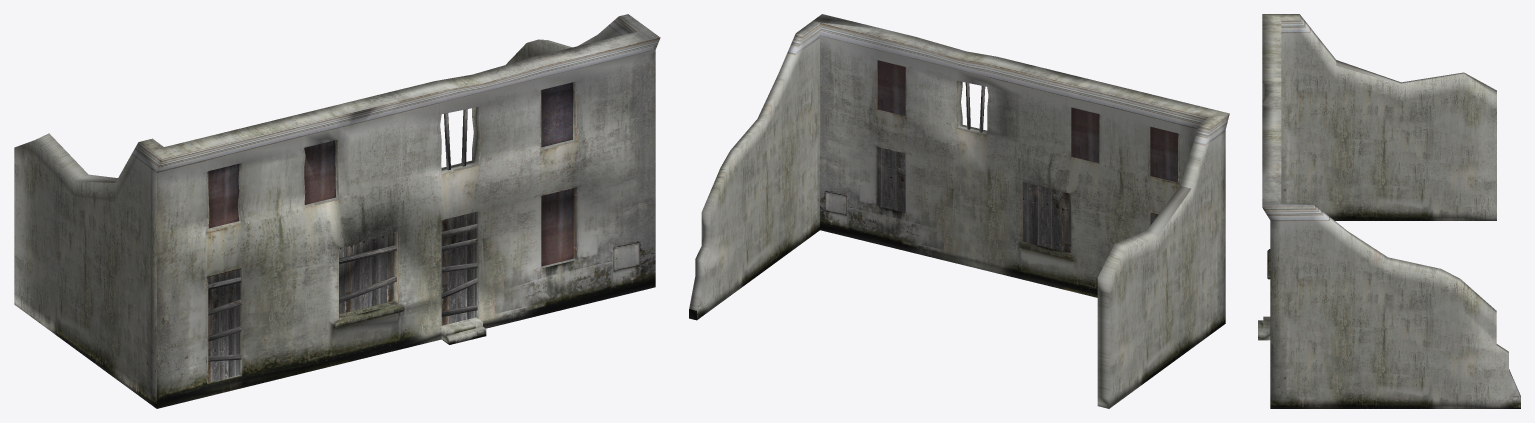
The model's file is war_torn9.obj.
The picture shows the model from 3 angles, left to right: view 1: azimuth 30°, elevation 25°; view 2: azimuth 150°, elevation 25°; view 3: azimuth 270°, elevation 25°; orthographic projection. The views are drawn at different scales.
Parts seen in each view (by area): view 1: worn_torn9; view 2: worn_torn9; view 3: worn_torn9.
Part boxes in pixels (bbox=[...]): worn_torn9: bbox=[14, 14, 660, 408]; worn_torn9: bbox=[689, 14, 1229, 408]; worn_torn9: bbox=[1258, 14, 1520, 408].
Size of the model in its own units: 452 by 219 by 259.
Materials: 1 (1 with a texture image).
